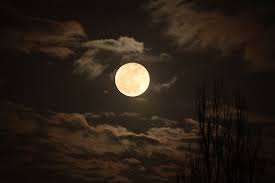moon: (114, 62, 150, 96)
